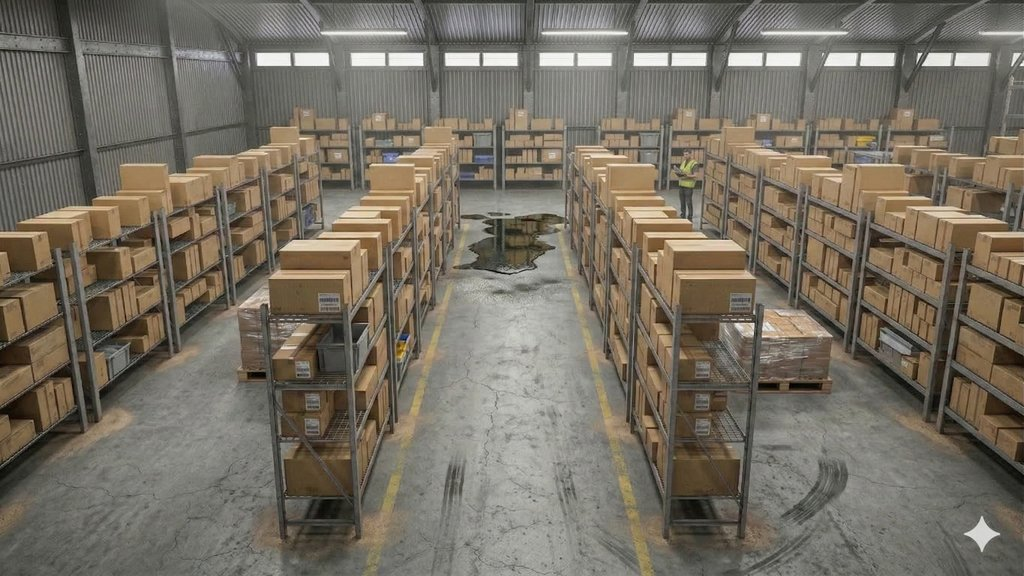empty_shelf: (325, 404, 364, 453), (72, 308, 108, 347)
obstacle: (724, 297, 850, 404), (239, 292, 281, 374)
person: (668, 137, 716, 219)
safety_vest: (677, 162, 700, 189)
spill: (468, 203, 558, 300)
